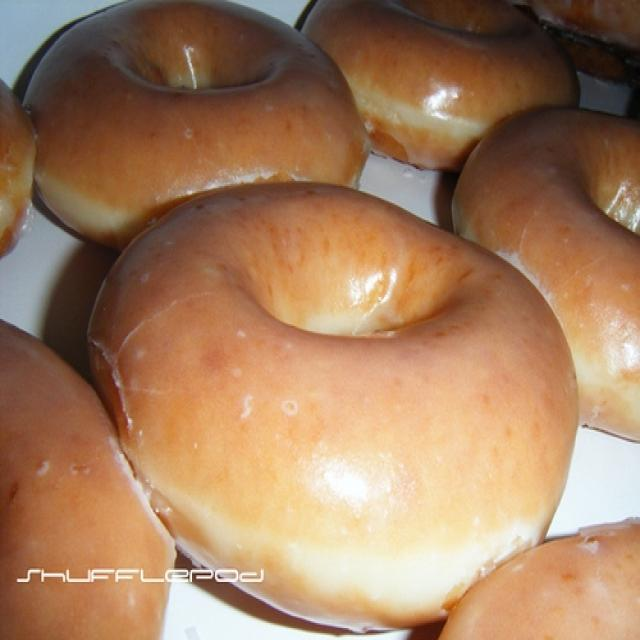炸货点心: (29, 29, 612, 608)
